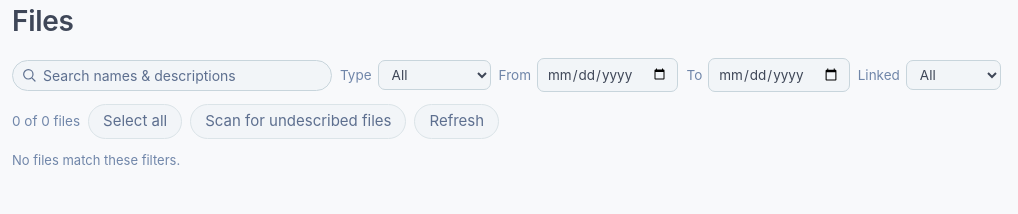
Scenario: Files › reports the disabled reason when describe is off
Check: the text "No files match these filters." is shown, box [12,152,180,168]
Step 1. Click the button "Scan for undescribed files" → [298, 122], box [190,104,406,139]
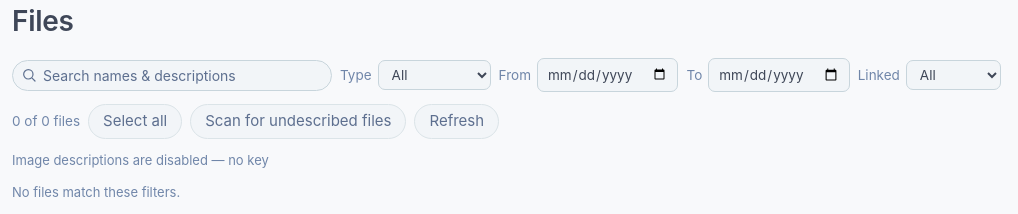
Check: the text "Image descriptions are disabled — no key" is shown, box [12,152,269,168]
